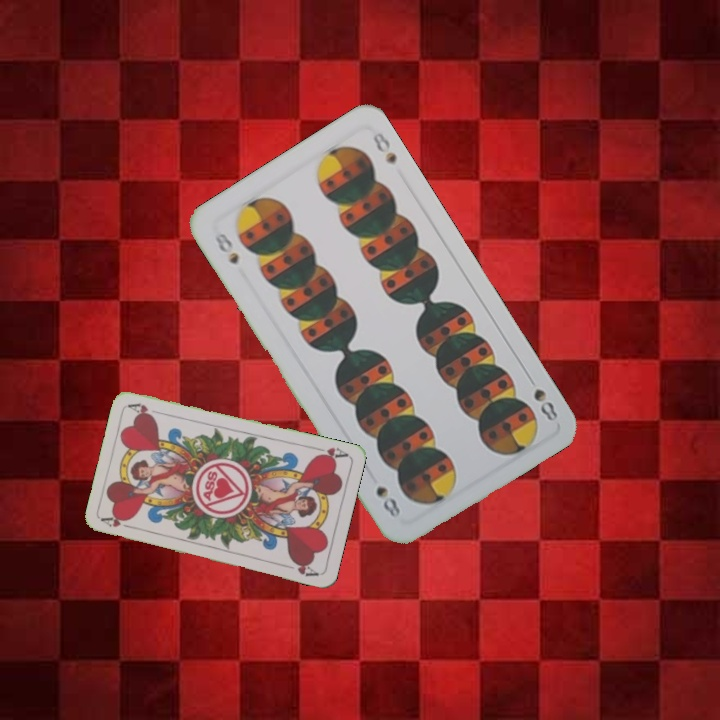HA: (310, 443, 350, 463), (98, 513, 139, 532)
S8: (522, 370, 561, 425), (210, 227, 242, 268)
